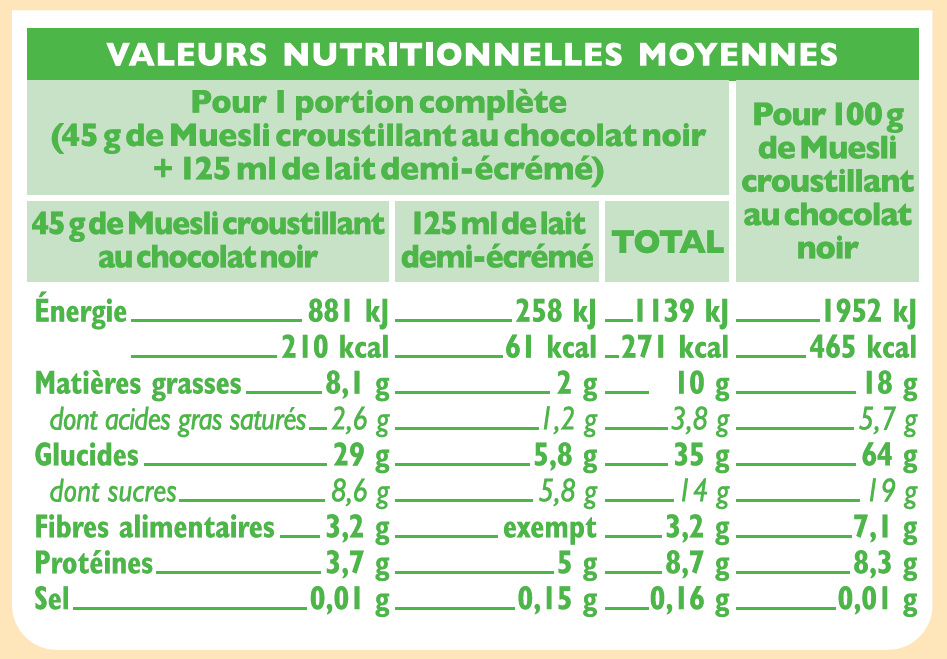column: (31, 205, 387, 613), (742, 82, 918, 619), (399, 204, 597, 617), (610, 204, 727, 619)
table: (28, 25, 924, 634)
